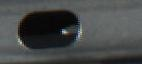holes: (14, 8, 84, 50)
